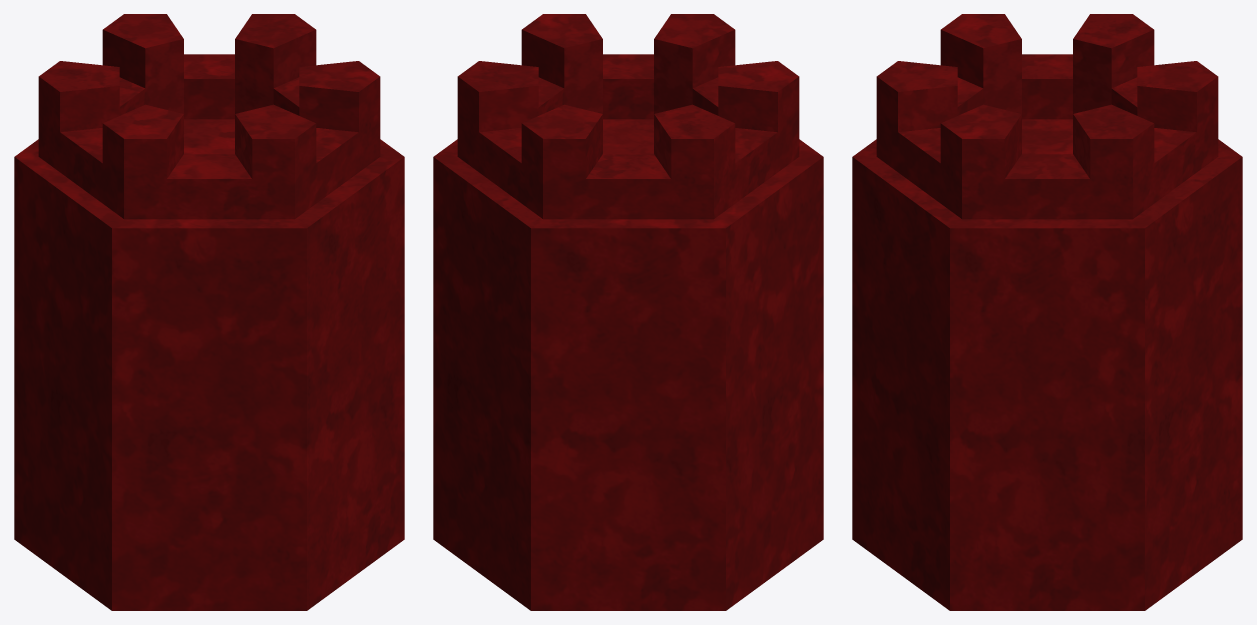
The model's file is NodeEntity.glb.
3 views of the same model, side by side, from view 1: azimuth 30°, elevation 25°; view 2: azimuth 150°, elevation 25°; view 3: azimuth 270°, elevation 25° (orthographic).
Parts seen in each view (by area): view 1: hexagon, hexagon_castleBattlement; view 2: hexagon, hexagon_castleBattlement; view 3: hexagon, hexagon_castleBattlement.
Boxes of the visible parts, <box> form: hexagon: <box>14,119,404,610</box>; hexagon_castleBattlement: <box>38,14,380,219</box>; hexagon: <box>433,119,823,610</box>; hexagon_castleBattlement: <box>457,14,799,219</box>; hexagon: <box>852,119,1242,610</box>; hexagon_castleBattlement: <box>876,14,1218,219</box>.
Bounding box in the file's own units: 0.8 × 1.21 × 0.9238.
2 materials, 2 textured.
